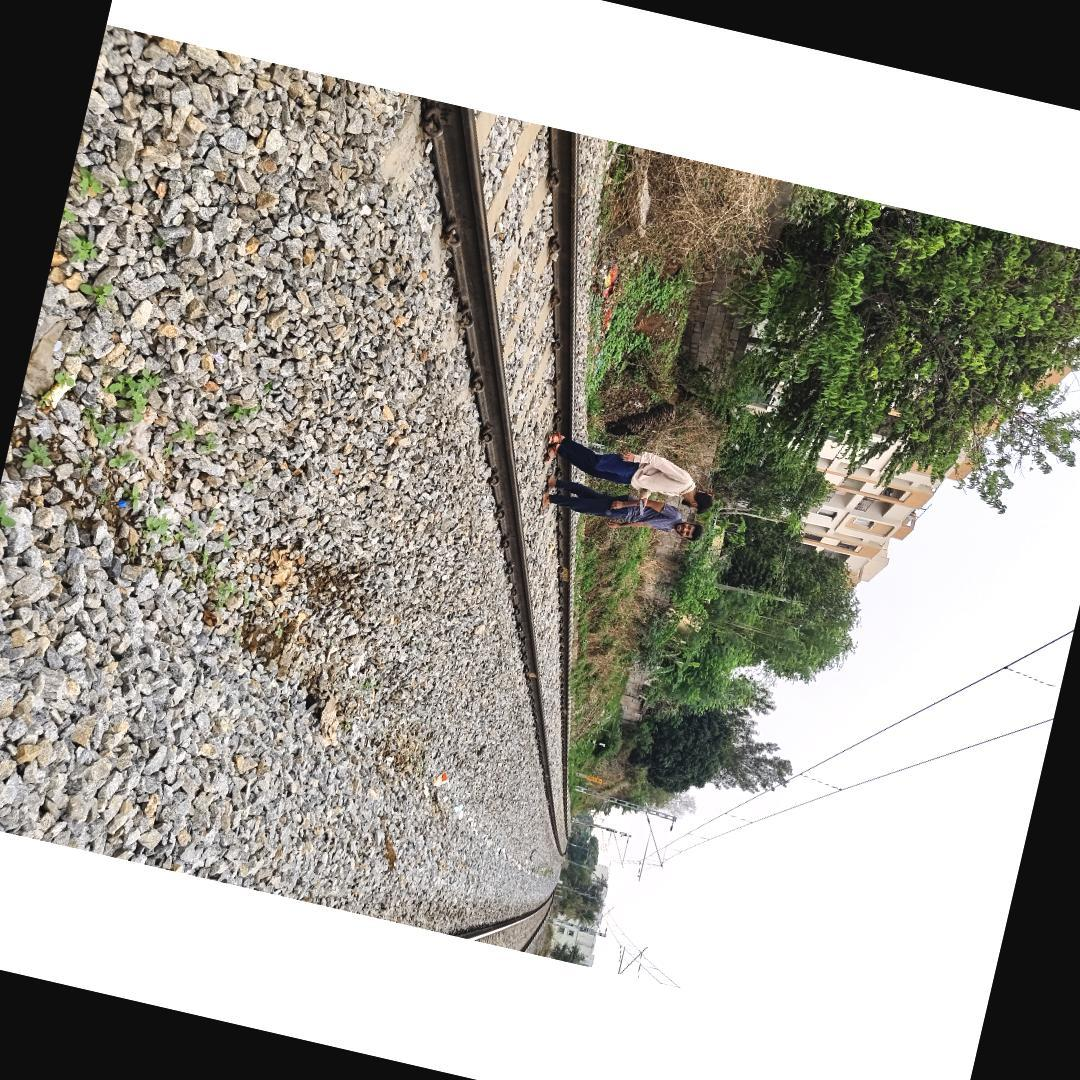standing: (536, 428, 722, 524), (536, 473, 706, 550)
track: (365, 84, 607, 861)
